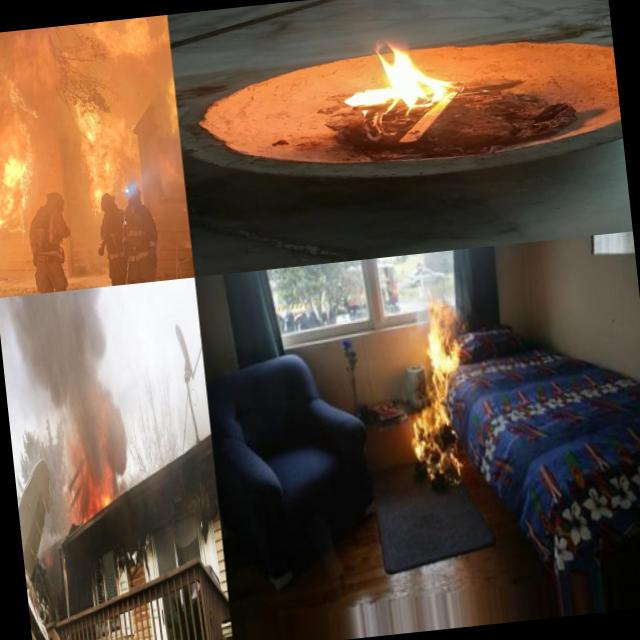fire: (49, 14, 184, 192), (396, 305, 474, 485), (326, 26, 474, 118), (0, 43, 45, 231), (72, 476, 124, 522)
smoke: (10, 288, 134, 487)
